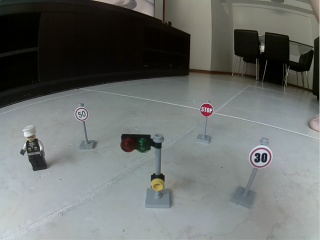Person: (20, 125, 49, 172)
Red Traffic Light: (119, 133, 172, 208)
Speed Limit 30: (249, 145, 273, 169)
Speed Limit 50: (74, 108, 88, 121)
Stop Sign: (200, 103, 214, 117)
